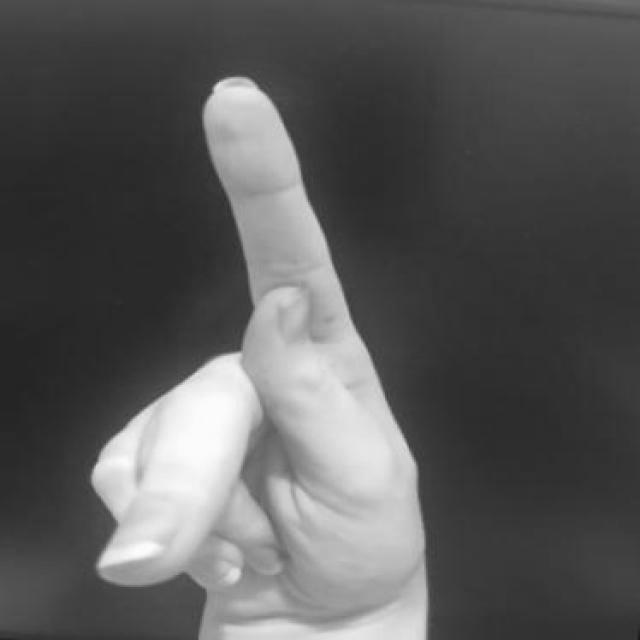P: (73, 60, 492, 636)
